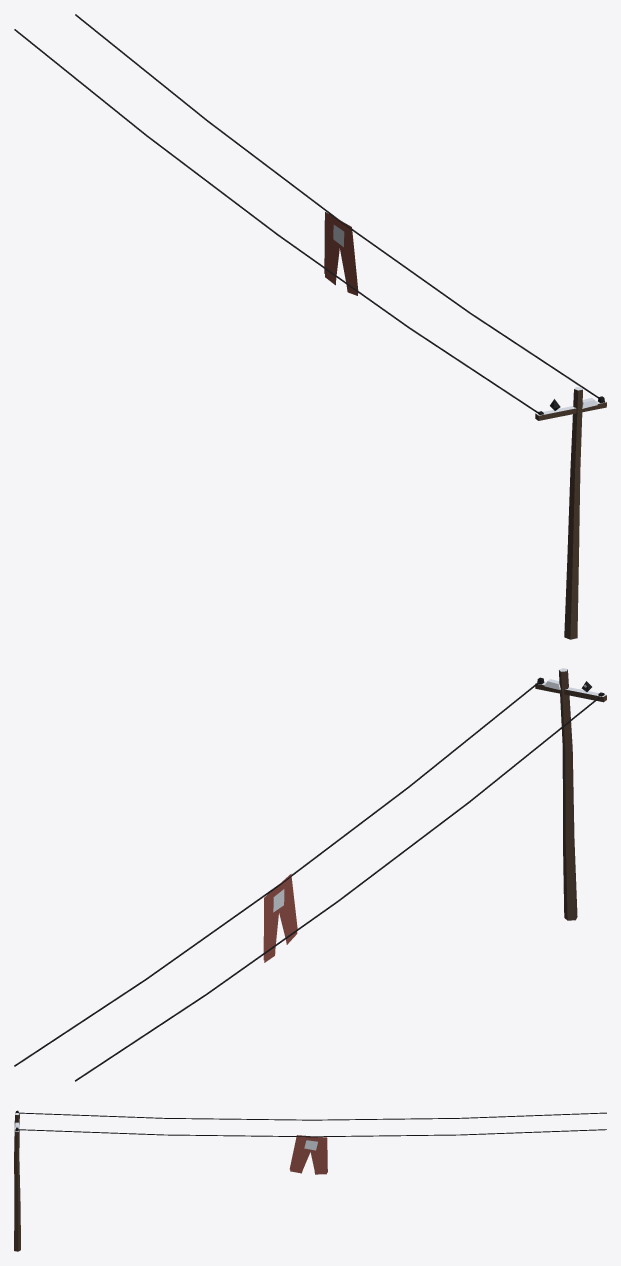
Rendered from pole.glb.
3 views of the same model, one above another, from view 1: azimuth 30°, elevation 25°; view 2: azimuth 150°, elevation 25°; view 3: azimuth 270°, elevation 25° (orthographic). The views are drawn at different scales.
Parts seen in each view (by area): view 1: Scenery; view 2: Scenery; view 3: Scenery.
Part boxes in pixels (x1,y1,x2,y2): Scenery: (14,14,606,639); Scenery: (14,668,606,1081); Scenery: (14,1110,606,1251).
Size of the model in its own units: 1.8 by 6.21 by 24.13.
